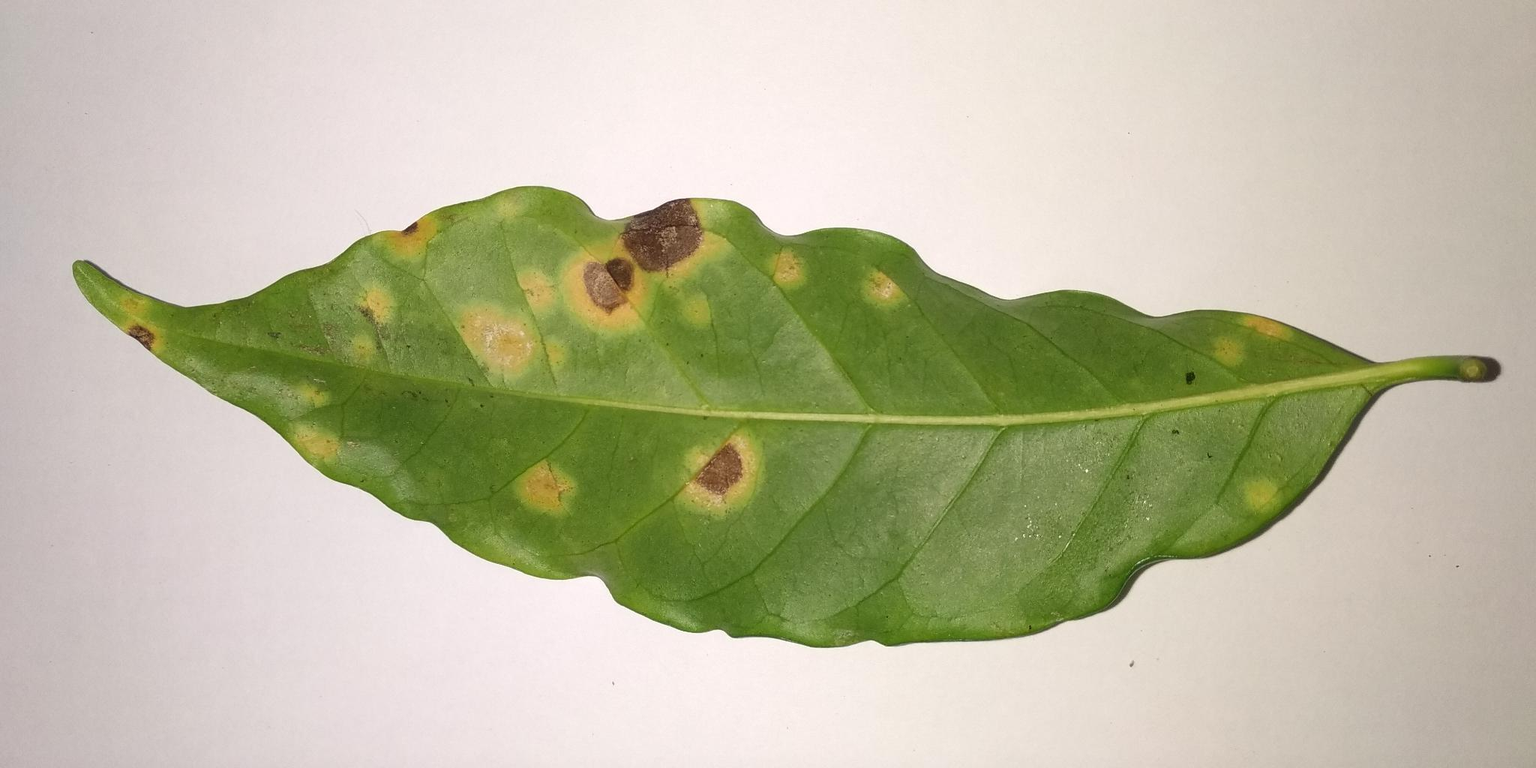Cercospora: (558, 189, 723, 342), (671, 415, 770, 524)
